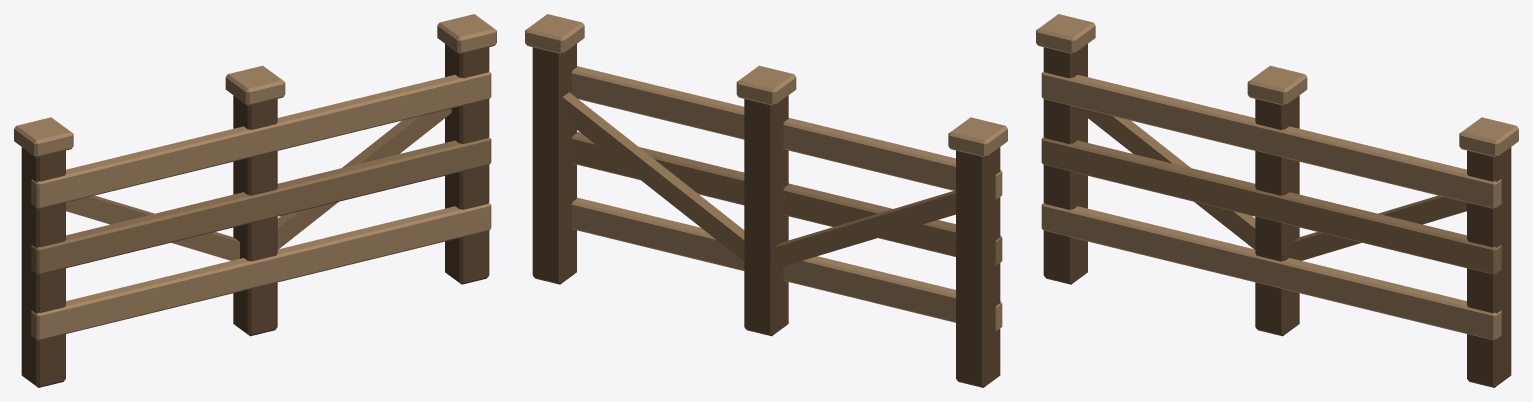
The model's file is Stylized_Prop_WoodenFence.fbx.
The picture shows the model from 3 angles, left to right: view 1: azimuth 30°, elevation 25°; view 2: azimuth 150°, elevation 25°; view 3: azimuth 330°, elevation 25°; orthographic projection.
Visible parts, largest first — view 1: Stylized_Prop_WoodenFence; view 2: Stylized_Prop_WoodenFence; view 3: Stylized_Prop_WoodenFence.
Boxes of the visible parts, box(x1,y1,x2,y2) form: Stylized_Prop_WoodenFence: box(14, 14, 496, 387); Stylized_Prop_WoodenFence: box(525, 14, 1007, 387); Stylized_Prop_WoodenFence: box(1036, 14, 1518, 387).
Bounding box in the file's own units: 2.8 × 1.45 × 0.24.
